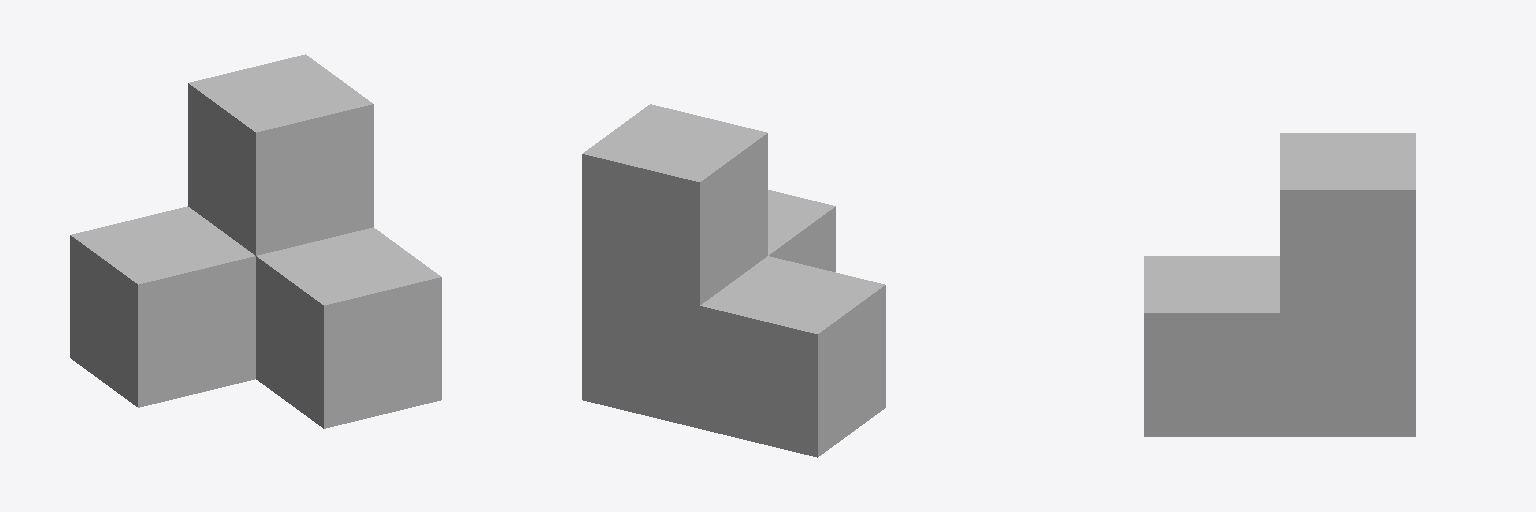
The model's file is crate.obj.
3 views of the same model, side by side, from view 1: azimuth 30°, elevation 25°; view 2: azimuth 150°, elevation 25°; view 3: azimuth 270°, elevation 25° (orthographic).
Parts seen in each view (by area): view 1: Cube; view 2: Cube; view 3: Cube.
Part boxes in pixels (x1,y1,x2,y2): Cube: (70,54,441,428); Cube: (582,104,885,457); Cube: (1144,133,1415,436).
Bounding box in the file's own units: 4 × 4 × 4.